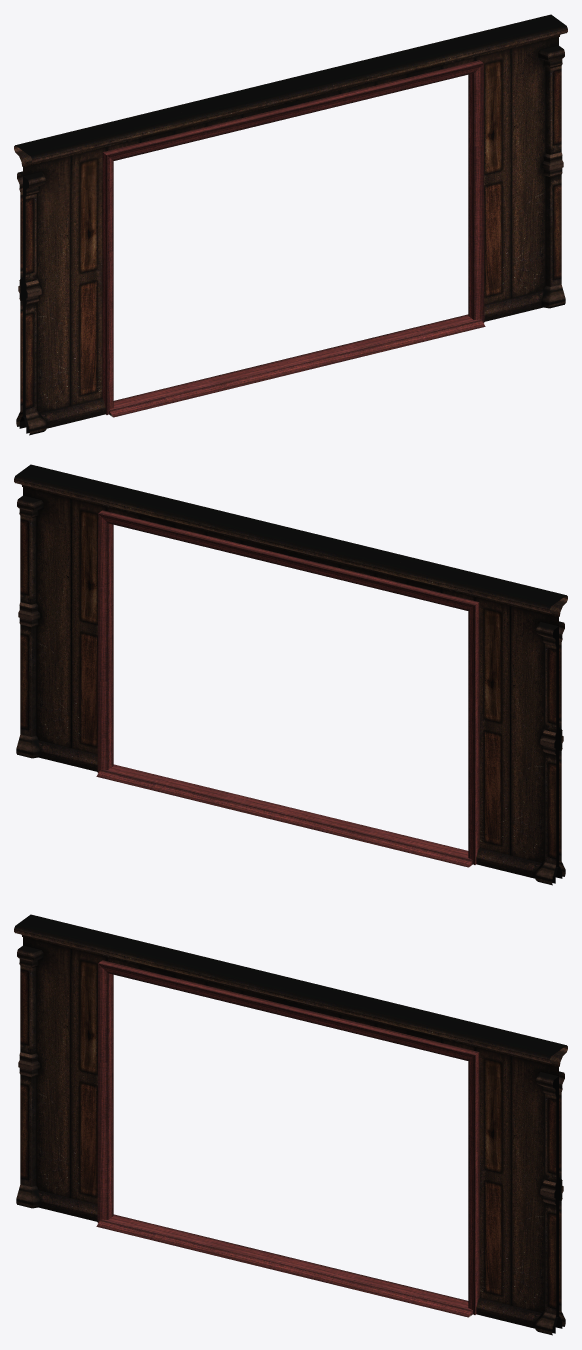
File: music_room_doorway_01.DAE
3 renders of one model, top to bottom at view 1: azimuth 30°, elevation 25°; view 2: azimuth 150°, elevation 25°; view 3: azimuth 330°, elevation 25°, orthographic.
Parts seen in each view (by area): view 1: polySurface11, Box010; view 2: polySurface11, Box010; view 3: polySurface11, Box010.
Part boxes in pixels (box(x1,y1,x2,y2)): polySurface11: box(14, 14, 567, 435); Box010: box(102, 60, 485, 417); polySurface11: box(14, 464, 567, 885); Box010: box(96, 510, 479, 867); polySurface11: box(14, 914, 567, 1335); Box010: box(96, 960, 479, 1317).
Size of the model in its own units: 8 by 4 by 0.4681.
